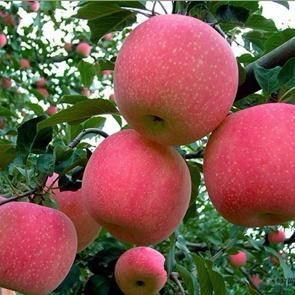apple: (119, 18, 247, 142), (78, 131, 192, 245), (201, 111, 291, 241), (1, 201, 76, 294), (113, 246, 166, 295)
